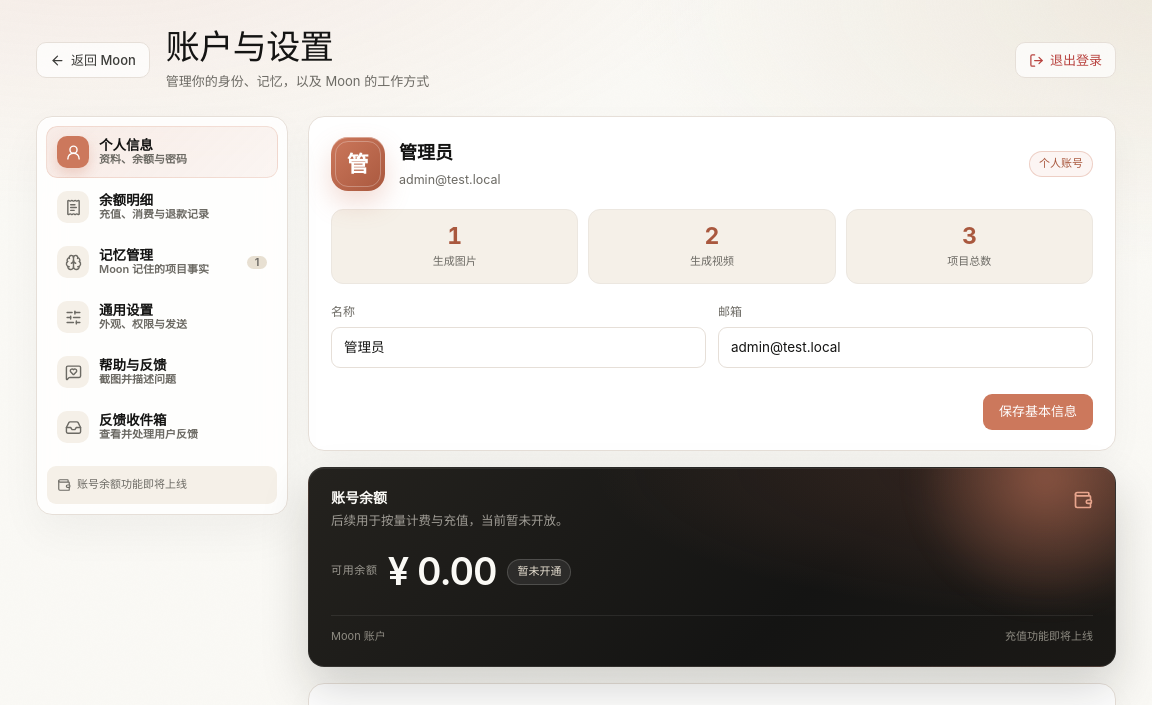
Test case: AccountPage 菜单与记忆管理 › 管理员能在反馈收件箱查看并标记反馈
Expected: the heading "管理员" is shown, [399,142,453,163]
Click the button "反馈收件箱 查看并处理用户反馈" at (162, 427), box [46,401,278,453]
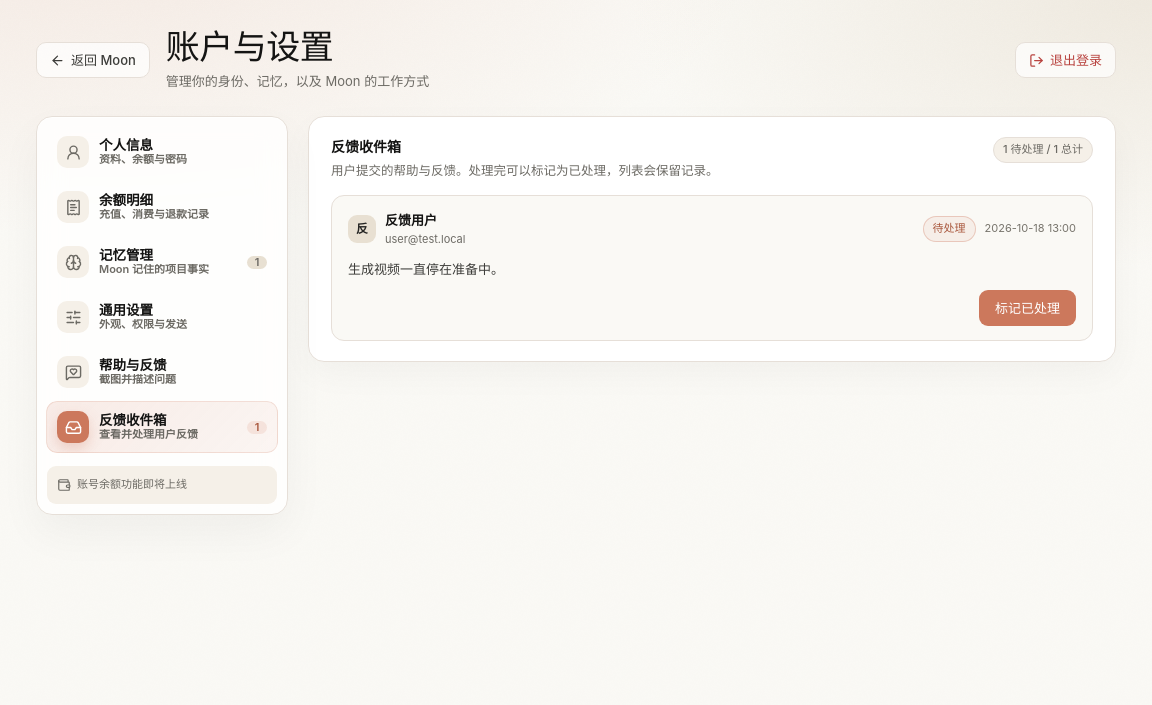
Expected: the text "生成视频一直停在准备中。" is shown, [348,261,504,277]
Click the button "标记已处理" at (1028, 308), box [979,290,1076,326]
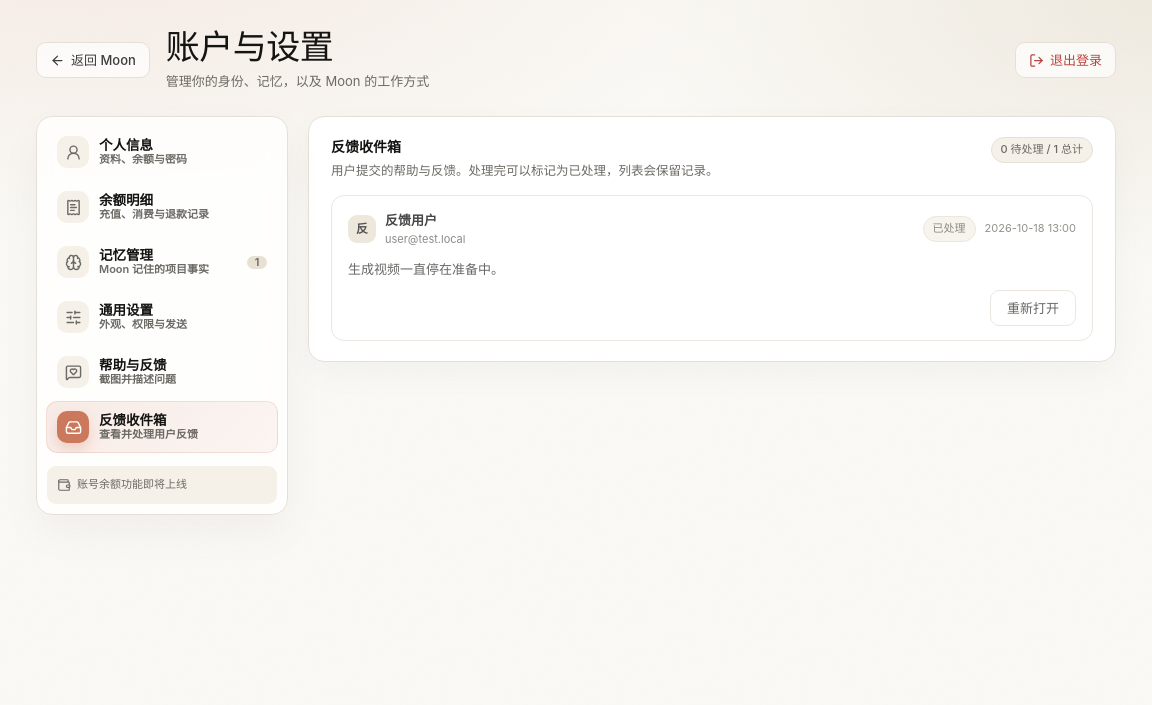
Expected: the text "已处理" is shown, [923,216,976,242]
